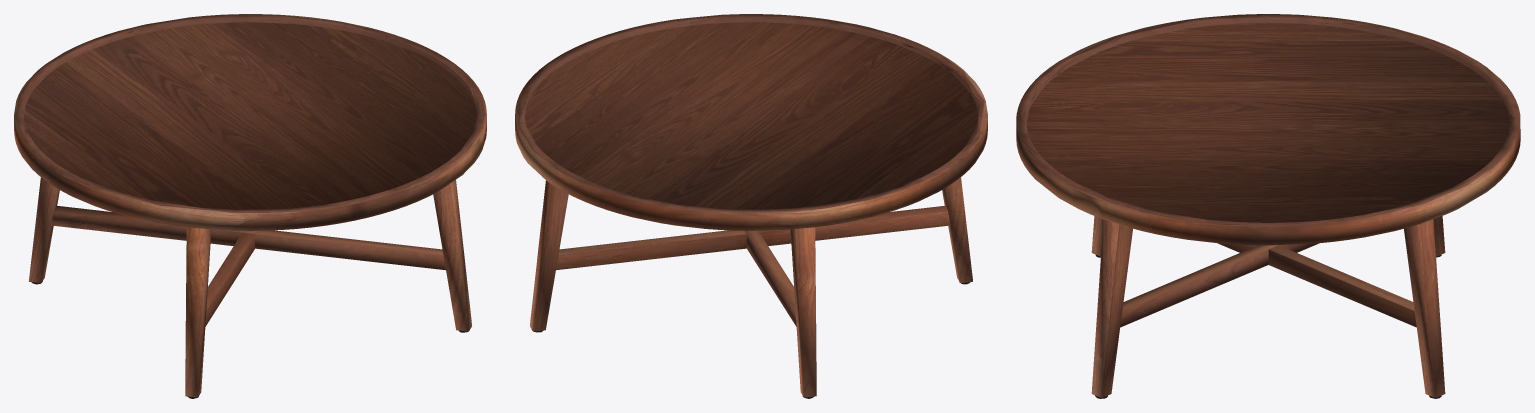
The model's file is abo-B07GDSF3MR.glb.
3 views of the same model, side by side, from view 1: azimuth 30°, elevation 25°; view 2: azimuth 150°, elevation 25°; view 3: azimuth 270°, elevation 25° (orthographic). The views are drawn at different scales.
Visible parts, largest first — view 1: B07GDSF3MR; view 2: B07GDSF3MR; view 3: B07GDSF3MR.
Boxes of the visible parts, x1,y1,x2,y2 form: B07GDSF3MR: (14,14,486,398); B07GDSF3MR: (515,14,987,398); B07GDSF3MR: (1016,14,1520,398).
Size of the model in its own units: 0.7993 by 0.3598 by 0.7993.
Materials: 1 (1 with a texture image).
